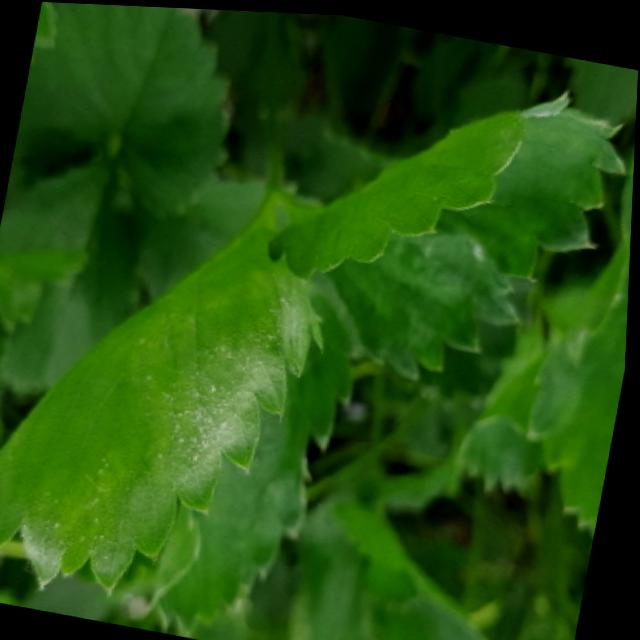Powdery Mildew Leaf: (0, 206, 326, 595)
